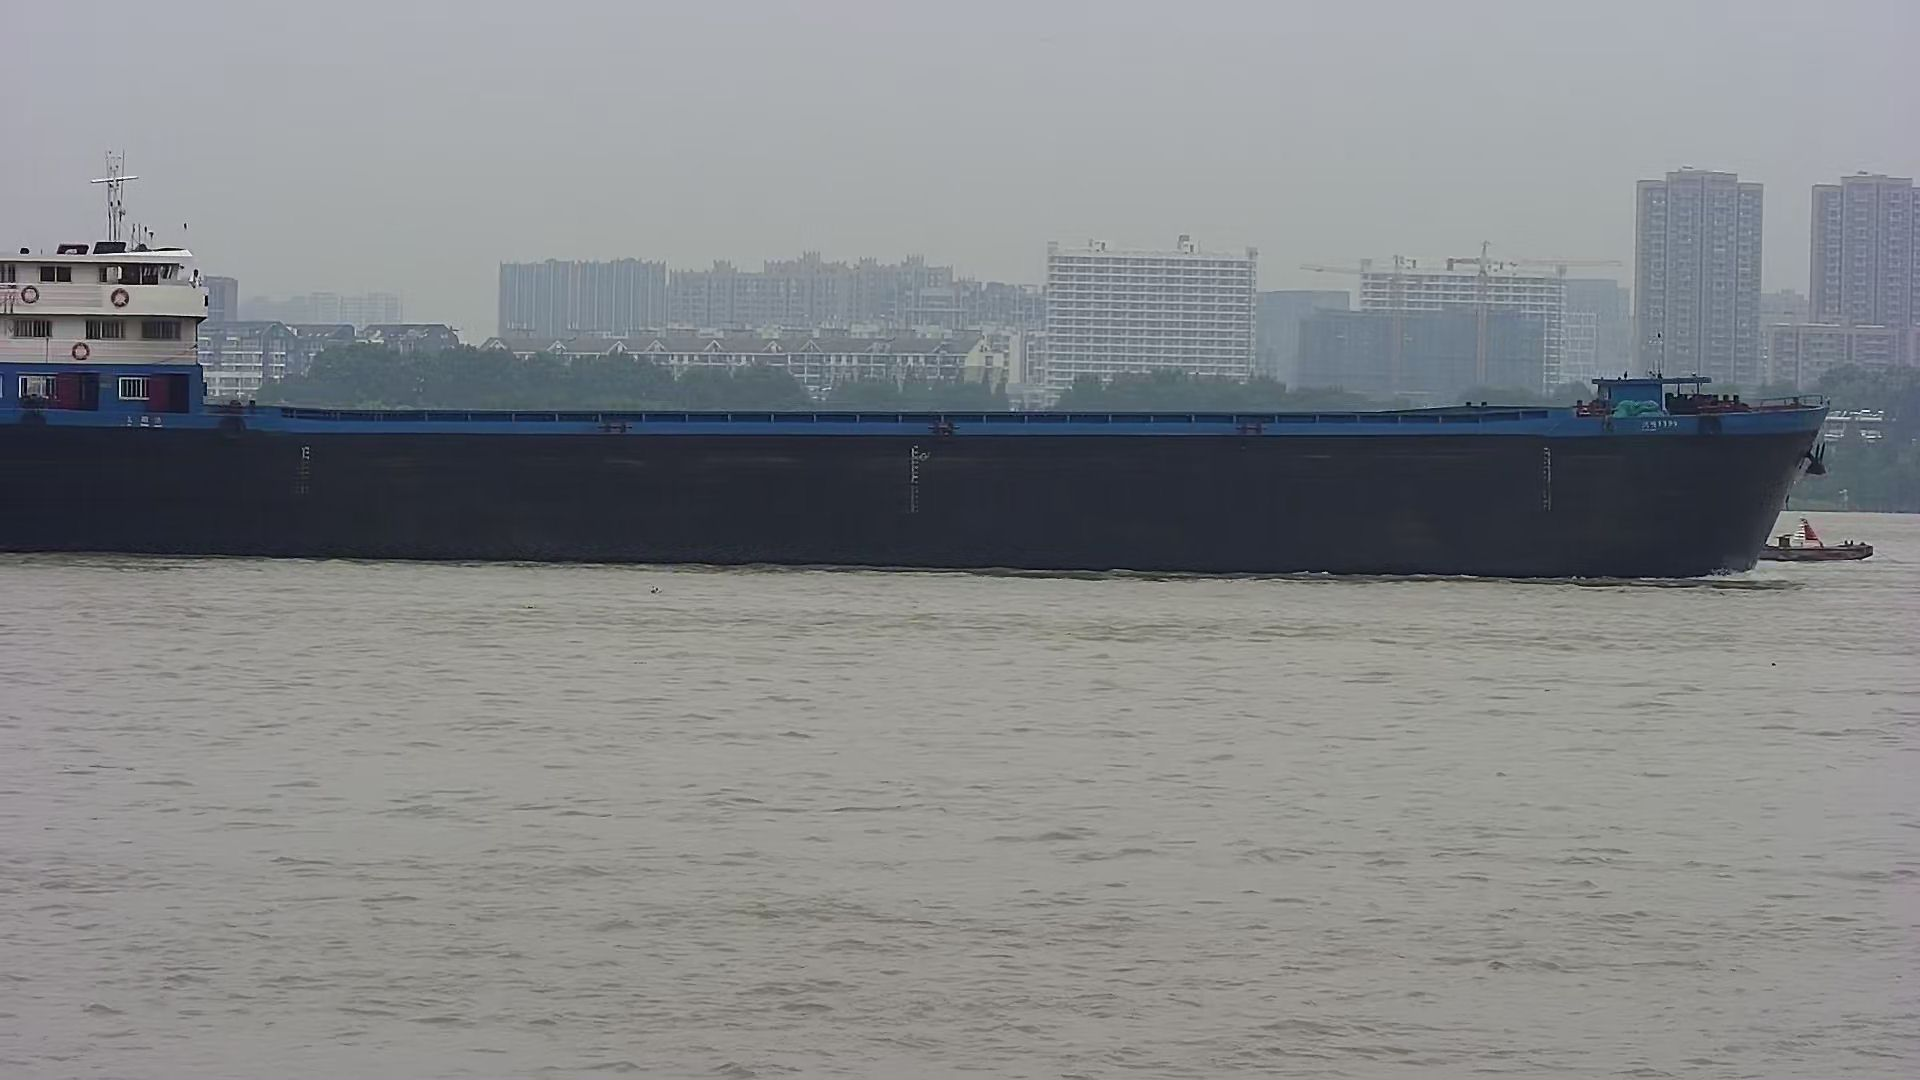boat: (1750, 512, 1894, 568)
ship: (1, 141, 1846, 587)
